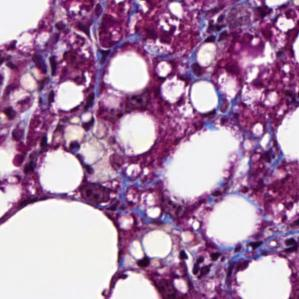inflammation: (178, 245, 226, 282), (22, 133, 50, 179), (204, 11, 232, 44)
